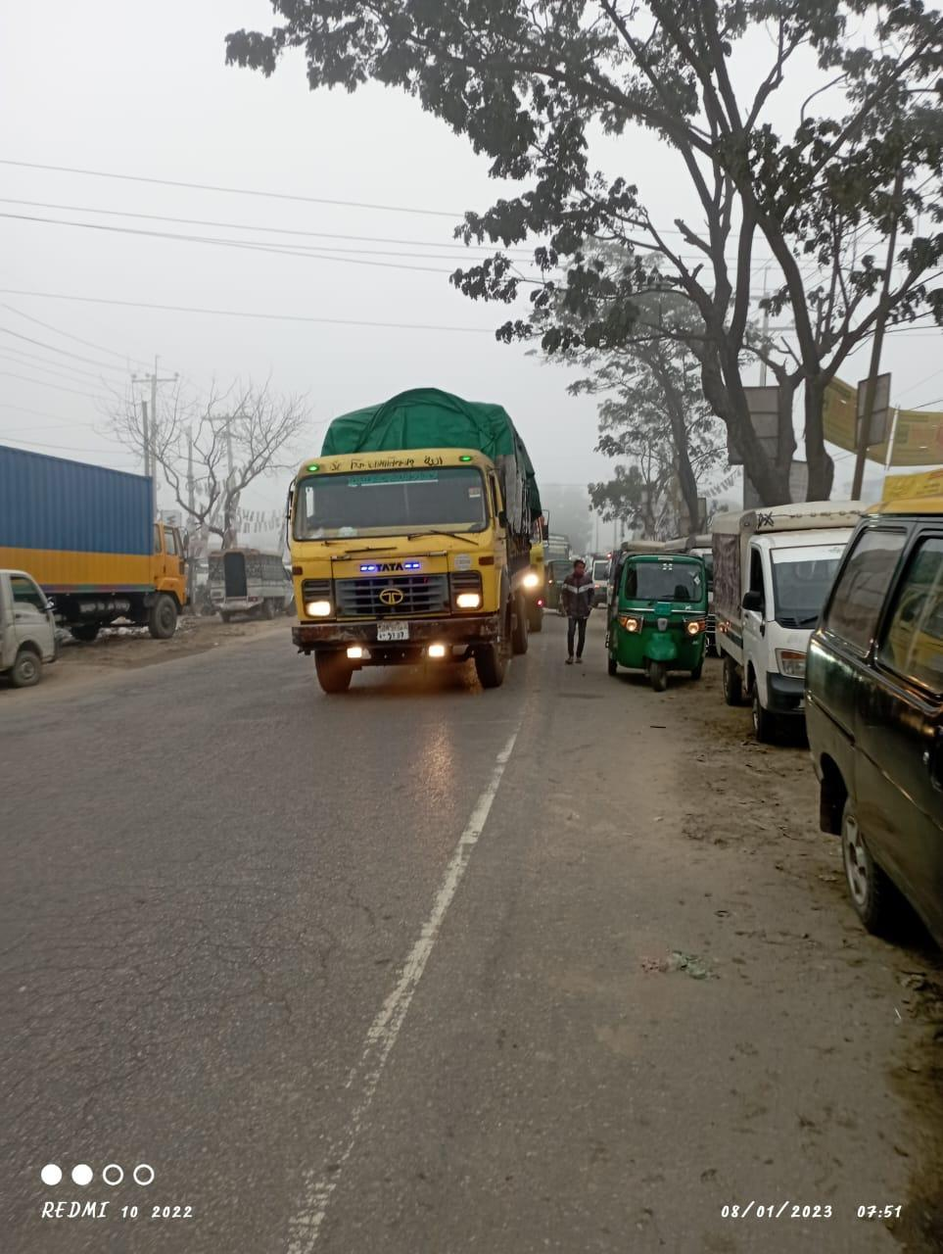Car: (793, 516, 943, 973), (713, 495, 844, 722), (4, 561, 64, 679), (209, 544, 292, 627)
Truck: (283, 392, 527, 693), (1, 430, 190, 639)
